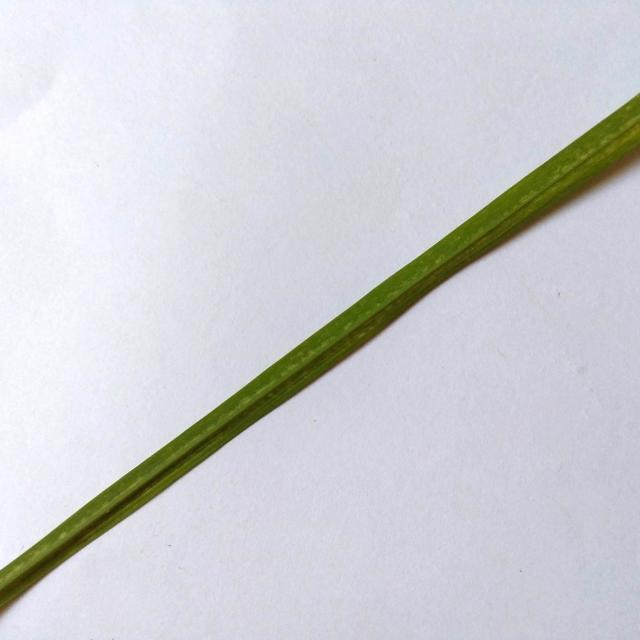Rice_Healthy: (0, 94, 640, 606)
